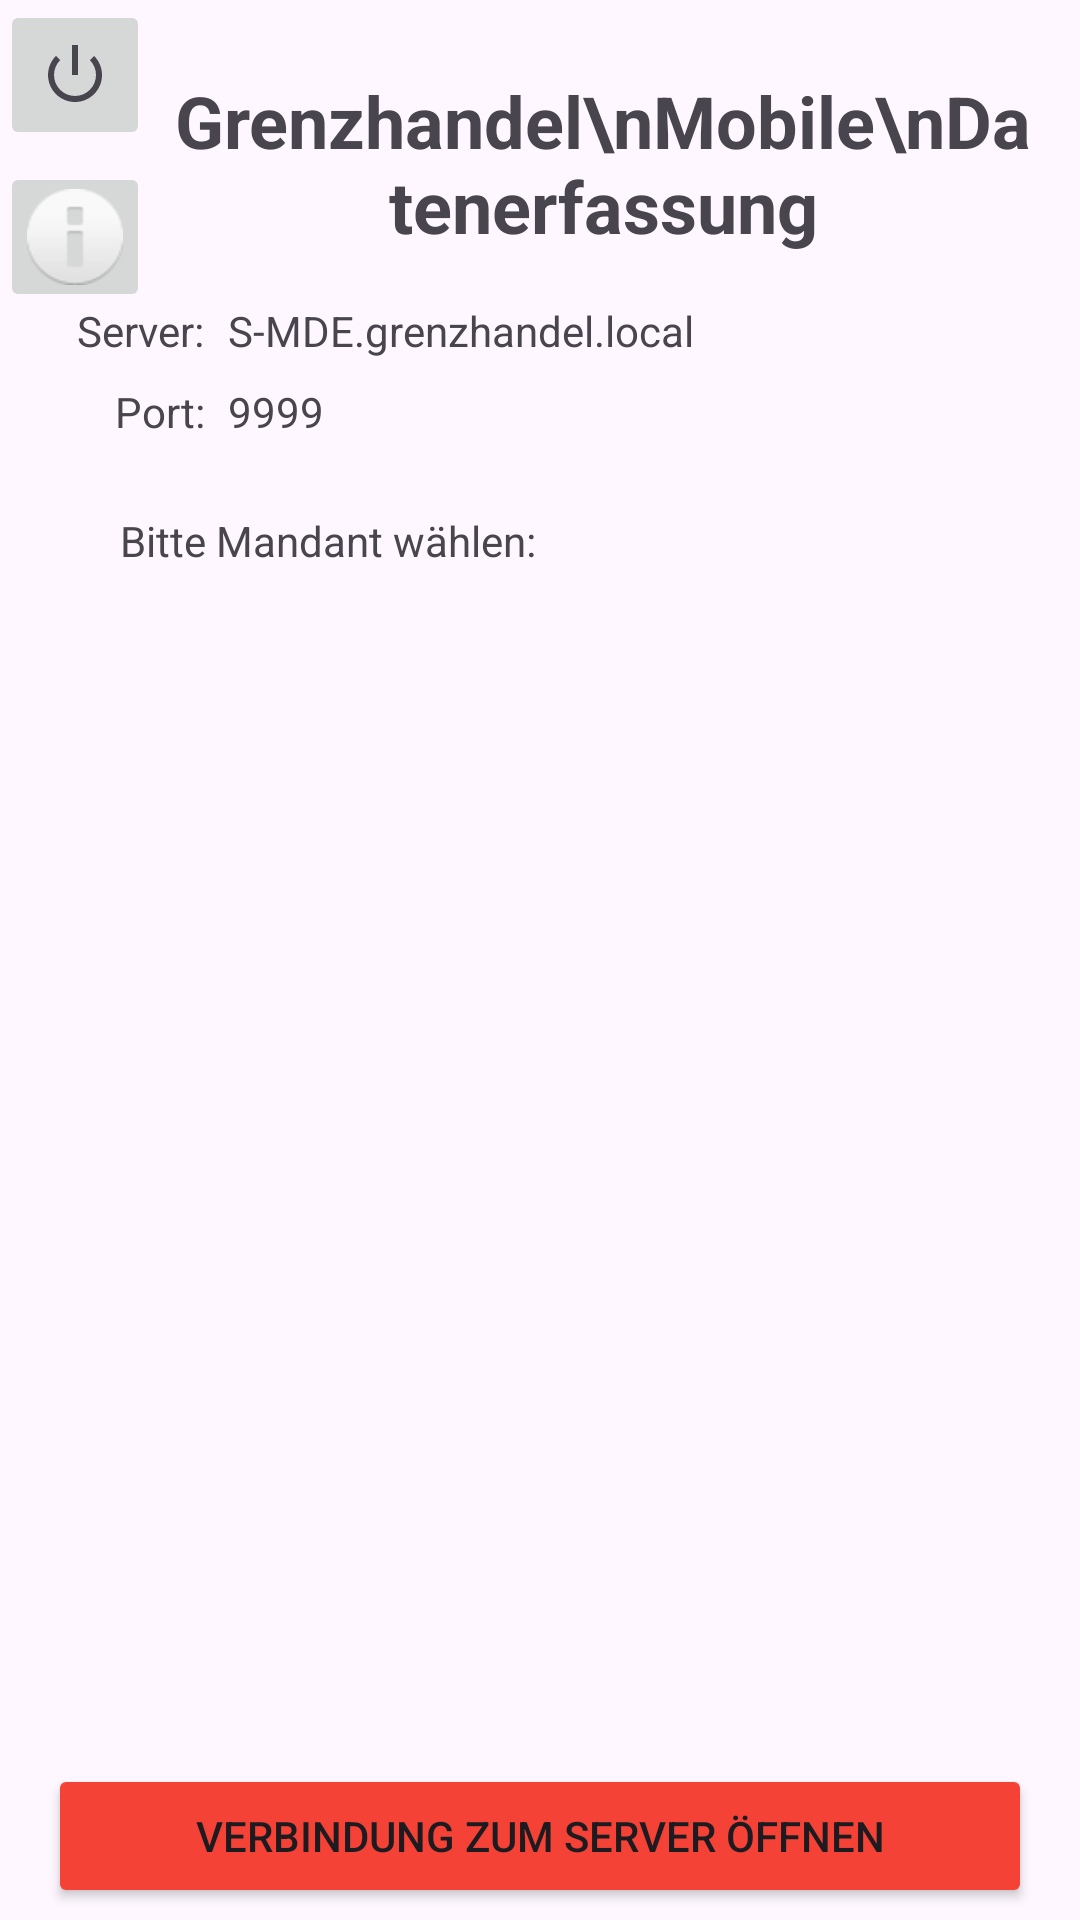

Icon click points for this 1080px x 1920px phone screenshot, format (x=x, y=y):
info: (x=75, y=237)
lock power off: (x=75, y=75)
